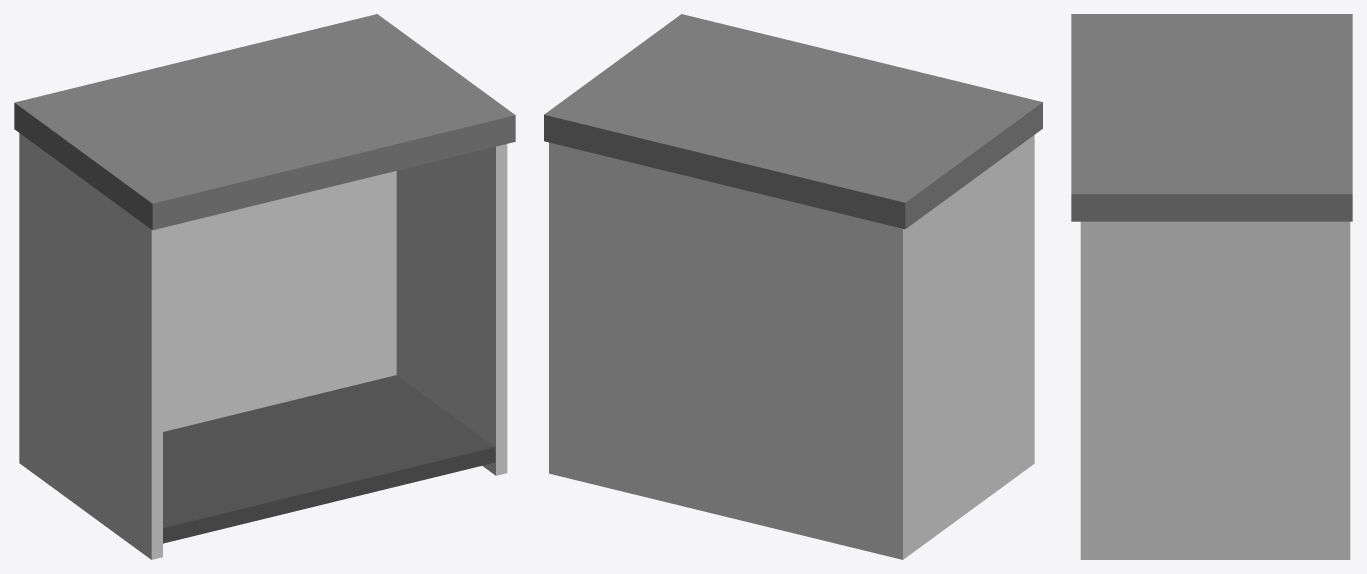
File: Office_CounterA1.fbx
3 renders of one model, left to right at view 1: azimuth 30°, elevation 25°; view 2: azimuth 150°, elevation 25°; view 3: azimuth 270°, elevation 25°, orthographic. The views are drawn at different scales.
Visible parts, largest first — view 1: Office_CounterA1; view 2: Office_CounterA1; view 3: Office_CounterA1.
Part boxes in pixels (x1,y1,x2,y2): Office_CounterA1: (14,14,515,559); Office_CounterA1: (544,14,1042,559); Office_CounterA1: (1071,14,1352,559).
Size of the model in its own units: 100 by 94.9 by 65.95.
